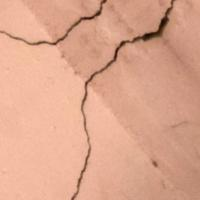crack: (1, 0, 173, 199)
